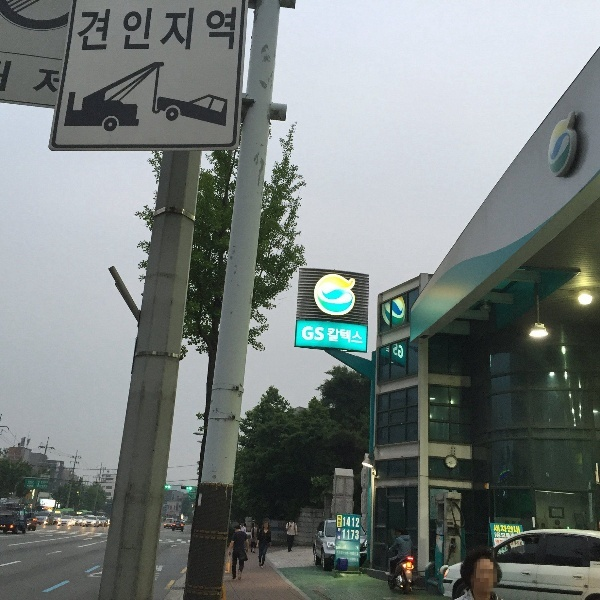text: (81, 5, 96, 53), (97, 5, 112, 53), (113, 5, 128, 53), (129, 5, 144, 53), (145, 5, 160, 53), (161, 5, 176, 53), (177, 5, 192, 53), (193, 5, 208, 53), (209, 5, 224, 53), (225, 5, 238, 53), (49, 66, 62, 97), (37, 66, 48, 97), (337, 327, 352, 348), (305, 326, 320, 344), (353, 327, 364, 348), (327, 327, 336, 348), (338, 528, 352, 540), (338, 516, 352, 527), (392, 343, 400, 360), (497, 525, 512, 534), (342, 529, 352, 541), (497, 532, 512, 540), (343, 517, 352, 528), (321, 326, 326, 344), (353, 517, 360, 528), (353, 529, 359, 541), (513, 525, 521, 534), (513, 540, 523, 547), (301, 326, 304, 344), (79, 5, 80, 53), (497, 539, 504, 545), (401, 343, 403, 360), (493, 525, 496, 534), (494, 532, 496, 540), (513, 532, 515, 540), (510, 540, 512, 547), (495, 539, 496, 545)
